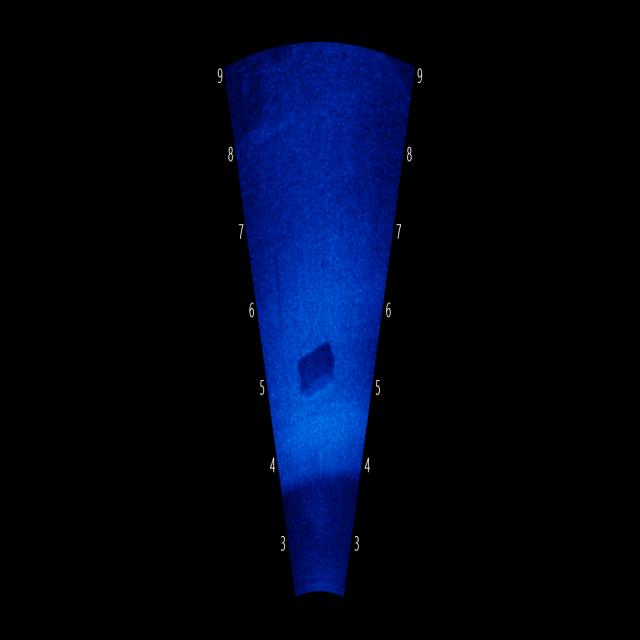square: (291, 324, 344, 410)
